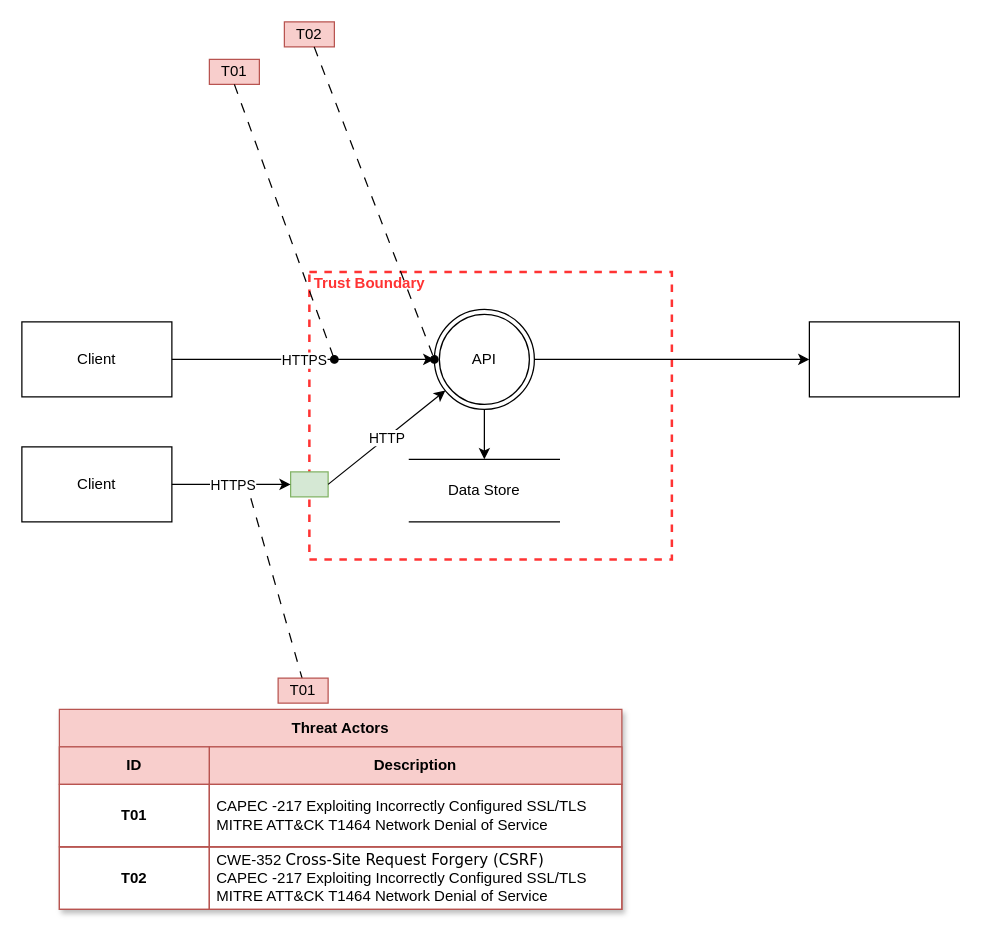
This 981x940 diagram has some shape labels left out. Each missing label, with the centre of its shape:
"C01" goes at (308,484).
"External Resource" goes at (883,359).
